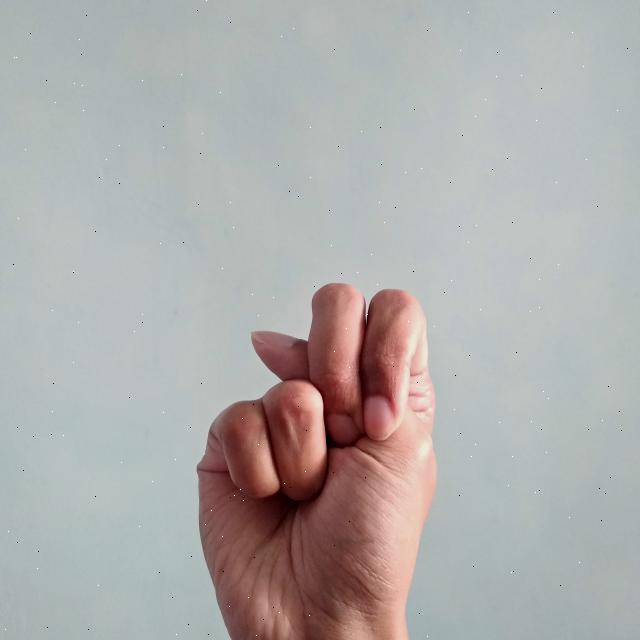N: (190, 276, 455, 640)
